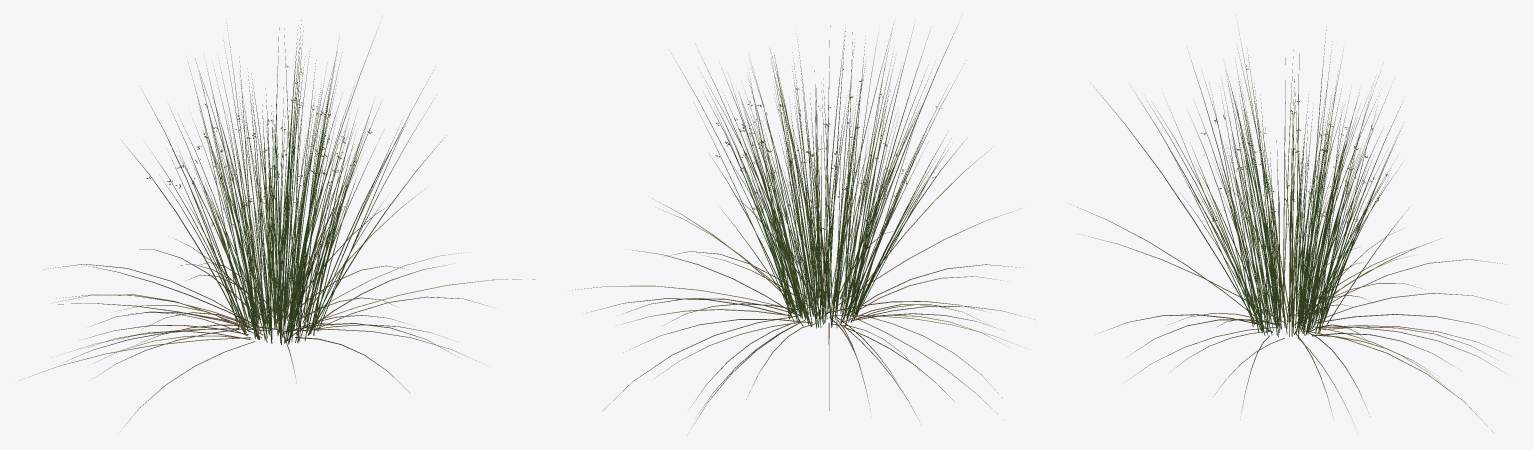
File: rush_b.glb
The picture shows the model from 3 angles, left to right: view 1: azimuth 30°, elevation 25°; view 2: azimuth 150°, elevation 25°; view 3: azimuth 270°, elevation 25°; orthographic projection. The views are drawn at different scales.
Parts seen in each view (by area): view 1: rush_b; view 2: rush_b; view 3: rush_b.
Part boxes in pixels (bbox=[...]): rush_b: bbox=[24, 20, 535, 433]; rush_b: bbox=[569, 14, 1029, 428]; rush_b: bbox=[1073, 21, 1510, 432].
Size of the model in its own units: 1.64 by 1.16 by 1.49.
